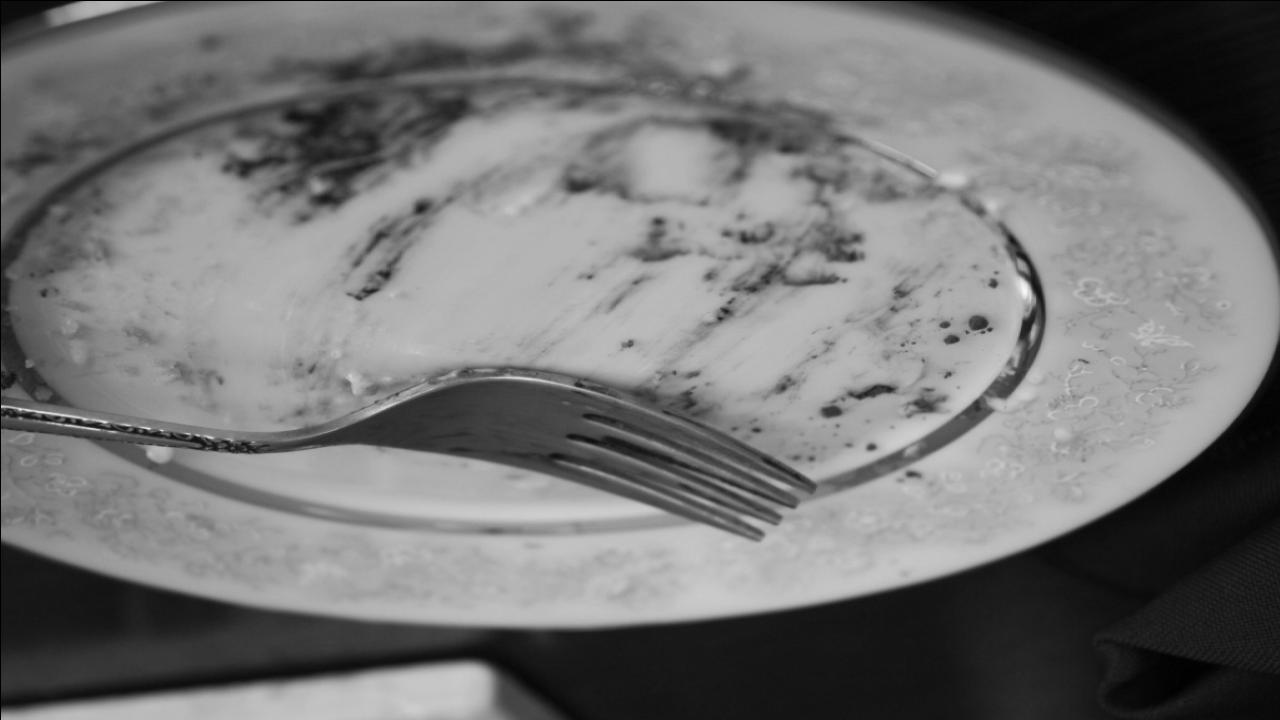fork: (0, 361, 819, 543)
